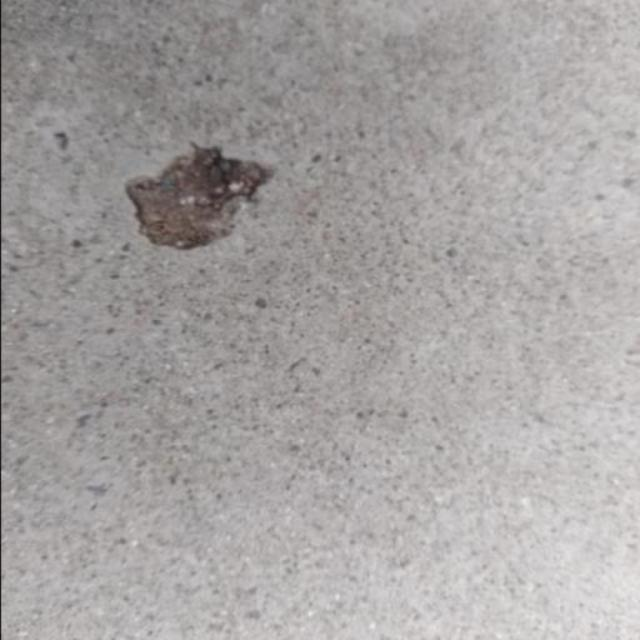D10: (126, 142, 277, 253)
